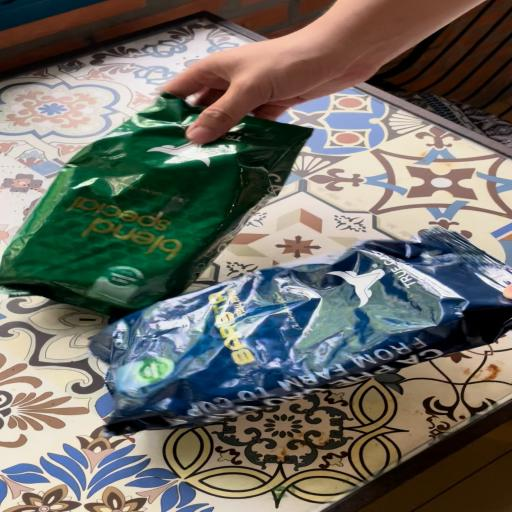cafe_hat: (90, 223, 512, 436)
cafe_xay: (0, 93, 312, 318)
